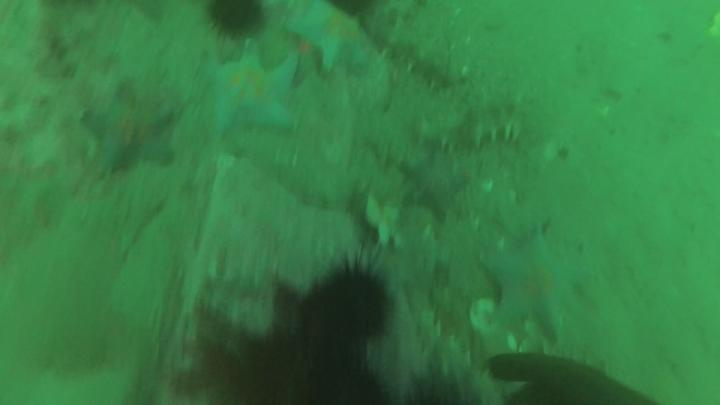echinus: (315, 275, 395, 339), (309, 358, 388, 405), (209, 4, 262, 34)
holothurian: (377, 22, 467, 89), (415, 102, 531, 152)
starfish: (483, 224, 592, 340), (203, 43, 304, 134), (85, 88, 175, 174), (290, 1, 370, 72), (398, 152, 469, 217)
